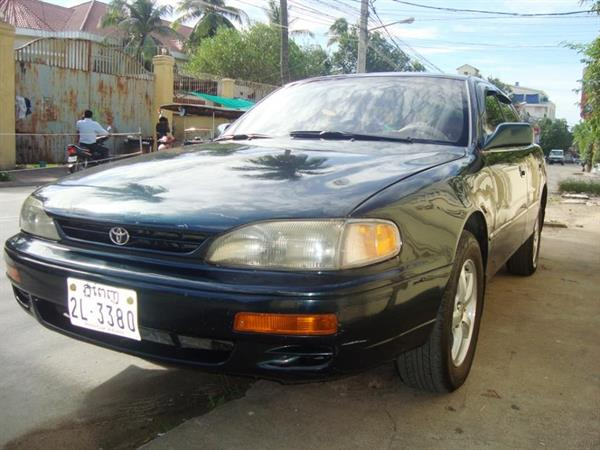car: (2, 66, 553, 396), (546, 146, 566, 170)
motor bike: (63, 135, 120, 180)
person: (73, 107, 115, 164)
